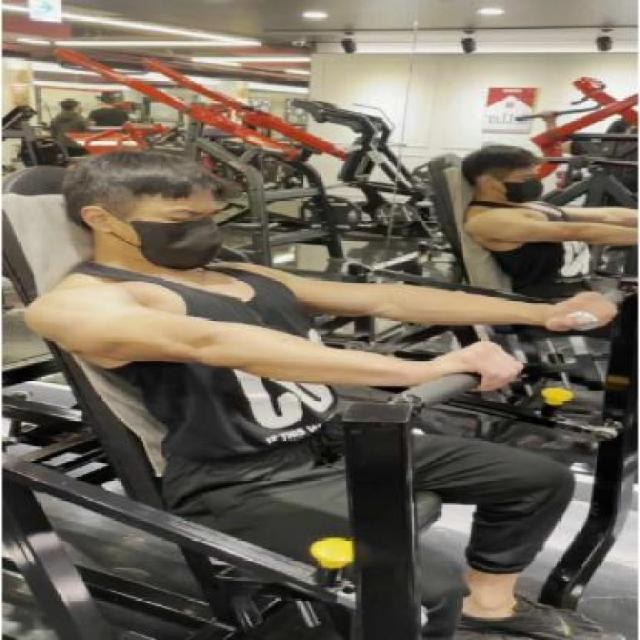Chest Press machine: (15, 123, 640, 640)
